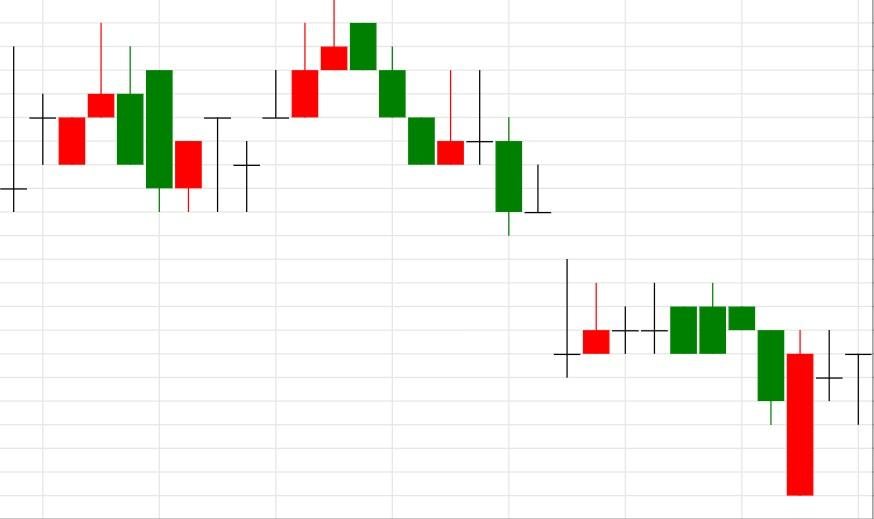shooting_star_fall: (232, 0, 348, 213), (0, 22, 116, 212)
three_black_crows_fall: (232, 0, 436, 213)
